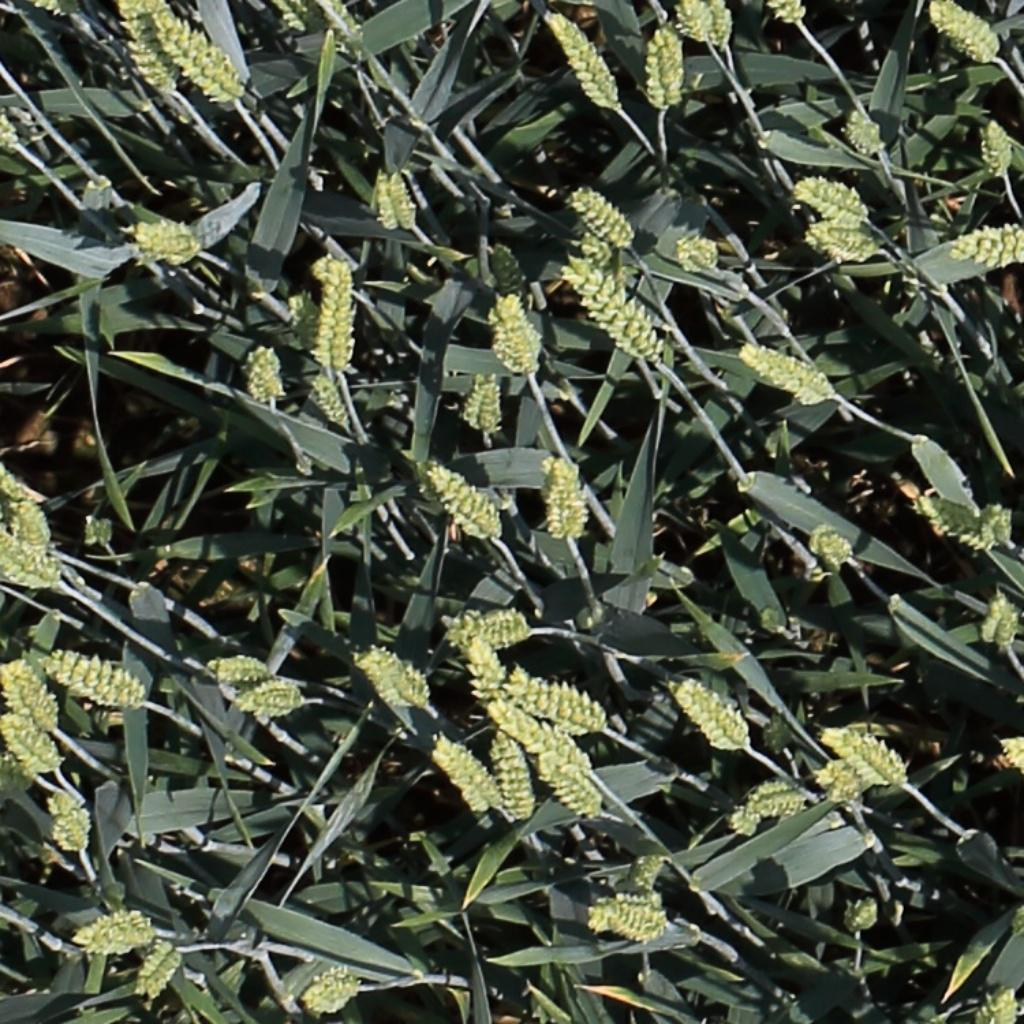0-0: (562, 253, 664, 363), (544, 6, 625, 116), (146, 5, 237, 87), (487, 703, 591, 774), (504, 664, 602, 726), (117, 2, 178, 101), (432, 738, 506, 819), (424, 462, 502, 537), (155, 30, 237, 99), (675, 679, 750, 753), (40, 651, 144, 704), (353, 644, 434, 712), (828, 727, 907, 789), (8, 652, 64, 737), (533, 756, 604, 823), (69, 906, 156, 959), (567, 184, 637, 248), (741, 344, 830, 394), (122, 214, 210, 264), (931, 0, 999, 64), (918, 496, 998, 550), (492, 723, 533, 827), (946, 219, 1024, 271), (498, 289, 543, 376), (465, 630, 507, 723), (236, 672, 310, 724), (0, 712, 61, 775), (615, 845, 663, 919), (132, 935, 184, 1003), (490, 234, 533, 314), (0, 529, 58, 587), (320, 256, 350, 368), (0, 656, 42, 734), (216, 653, 281, 703), (46, 790, 92, 858), (795, 177, 871, 218), (308, 367, 354, 434), (301, 964, 362, 1013), (745, 770, 804, 820), (10, 494, 53, 559), (445, 617, 531, 649), (554, 450, 582, 547), (316, 0, 368, 50), (385, 162, 421, 234), (248, 339, 285, 408), (809, 522, 857, 573), (806, 223, 879, 256), (754, 705, 802, 754), (658, 23, 685, 109), (371, 163, 402, 237), (0, 442, 32, 510), (464, 368, 496, 435), (819, 760, 865, 806), (846, 106, 888, 155), (983, 109, 1011, 180), (981, 588, 1011, 652), (647, 32, 670, 114), (989, 593, 1018, 658), (678, 1, 719, 46), (972, 986, 1019, 1024), (477, 367, 502, 438), (981, 498, 1010, 551), (993, 729, 1024, 778), (675, 237, 720, 270), (843, 898, 883, 933), (711, 0, 734, 51), (772, 1, 808, 23), (0, 94, 15, 144), (1009, 898, 1024, 941)
